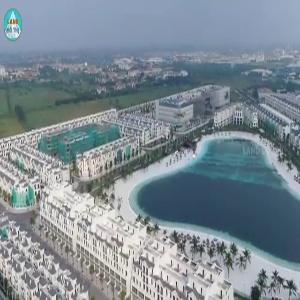drone: (172, 129, 209, 166)
